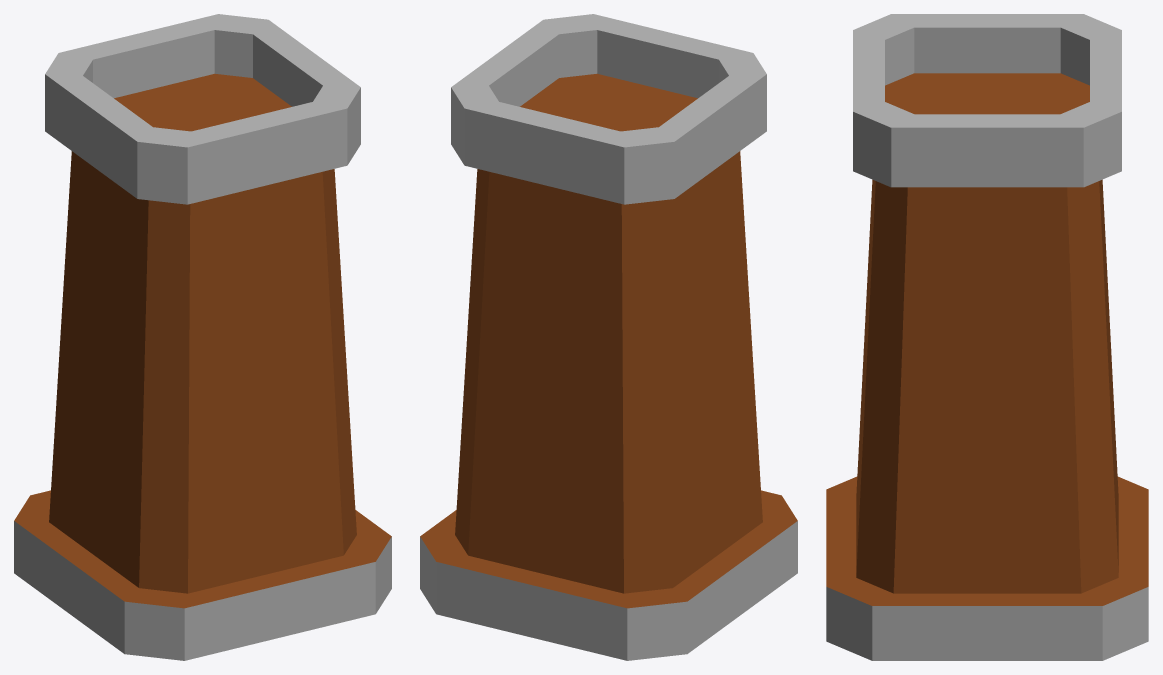
Rendered from Muro_Nv2.glb.
The picture shows the model from 3 angles, left to right: view 1: azimuth 30°, elevation 25°; view 2: azimuth 150°, elevation 25°; view 3: azimuth 270°, elevation 25°; orthographic projection. The views are drawn at different scales.
Visible parts, largest first — view 1: Cube.001; view 2: Cube.001; view 3: Cube.001.
Part boxes in pixels (box(x1,y1,x2,y2)): Cube.001: box(14, 14, 391, 660); Cube.001: box(420, 14, 797, 660); Cube.001: box(826, 14, 1148, 660).
Size of the model in its own units: 1.01 by 1.8 by 1.01.
